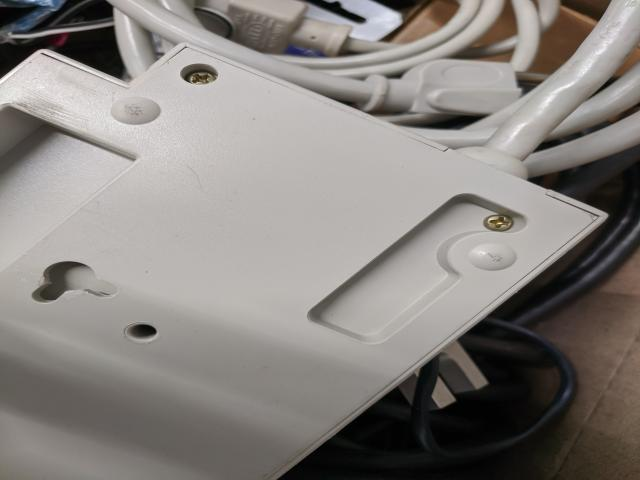CRS: (183, 68, 217, 86), (484, 214, 517, 230)
